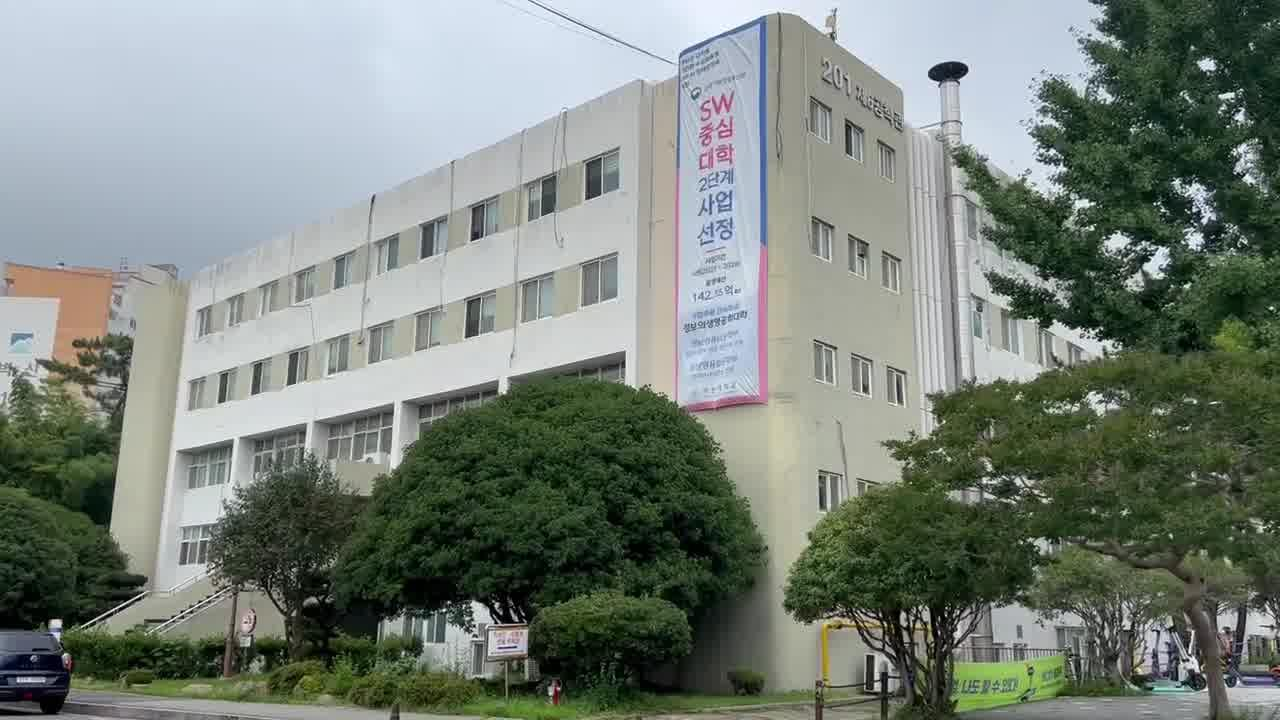building: (146, 130, 697, 387)
